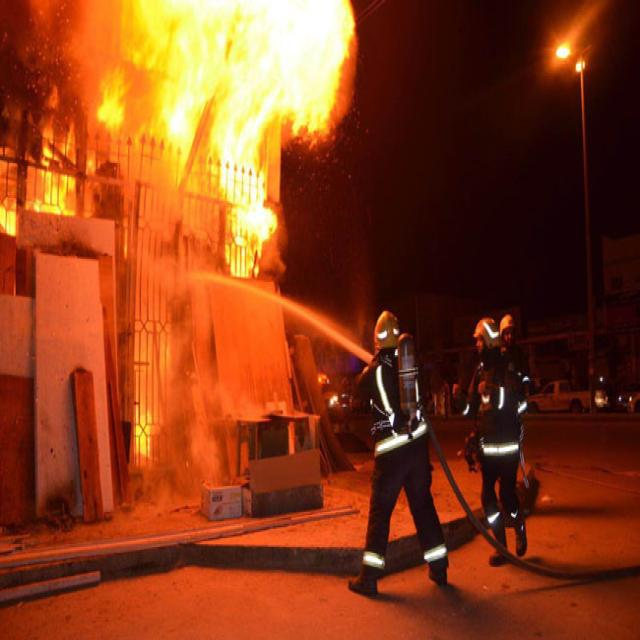car: (528, 381, 594, 416)
fire: (26, 5, 371, 284)
person: (347, 306, 451, 601), (474, 310, 531, 553), (361, 309, 415, 433)
